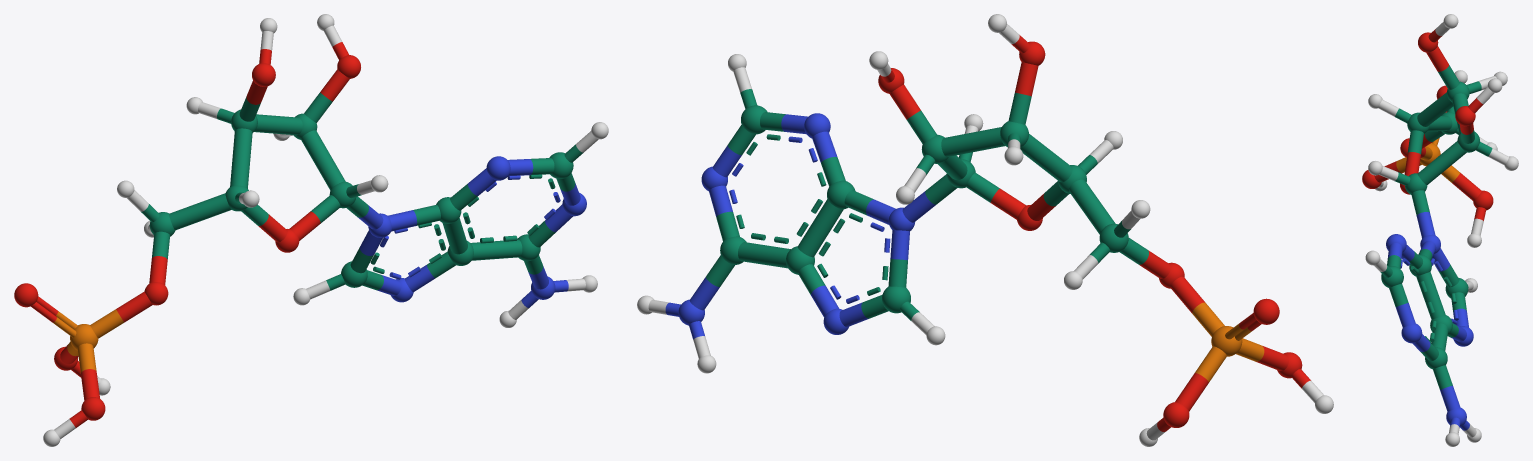
The model's file is AMP.glb.
3 views of the same model, side by side, from view 1: azimuth 30°, elevation 25°; view 2: azimuth 150°, elevation 25°; view 3: azimuth 270°, elevation 25° (orthographic). The views are drawn at different scales.
Size of the model in its own units: 13.05 by 7.97 by 3.51.
